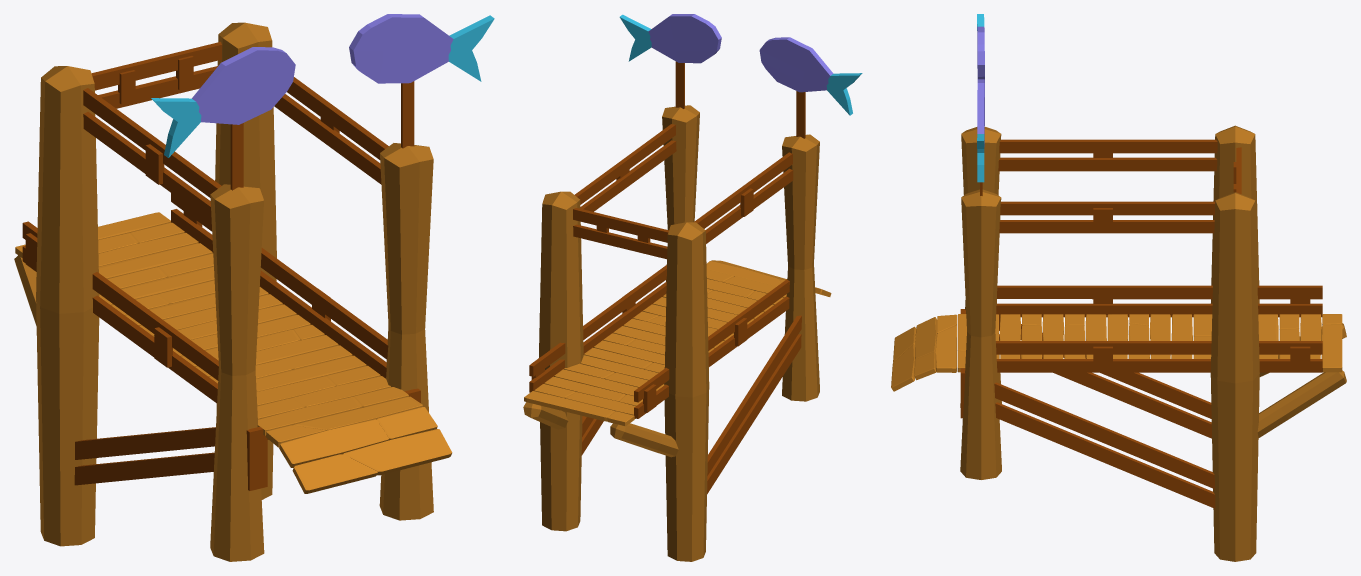
Rendered from Plan_004.fbx.
The picture shows the model from 3 angles, left to right: view 1: azimuth 30°, elevation 25°; view 2: azimuth 150°, elevation 25°; view 3: azimuth 270°, elevation 25°; orthographic projection. The views are drawn at different scales.
Parts seen in each view (by area): view 1: Plan.004_LOD0; view 2: Plan.004_LOD0; view 3: Plan.004_LOD0.
Boxes of the visible parts, x1,y1,x2,y2 form: Plan.004_LOD0: (14,14,494,561); Plan.004_LOD0: (523,14,862,561); Plan.004_LOD0: (891,14,1346,561).
Size of the model in its own units: 1036 by 1569 by 1756.
